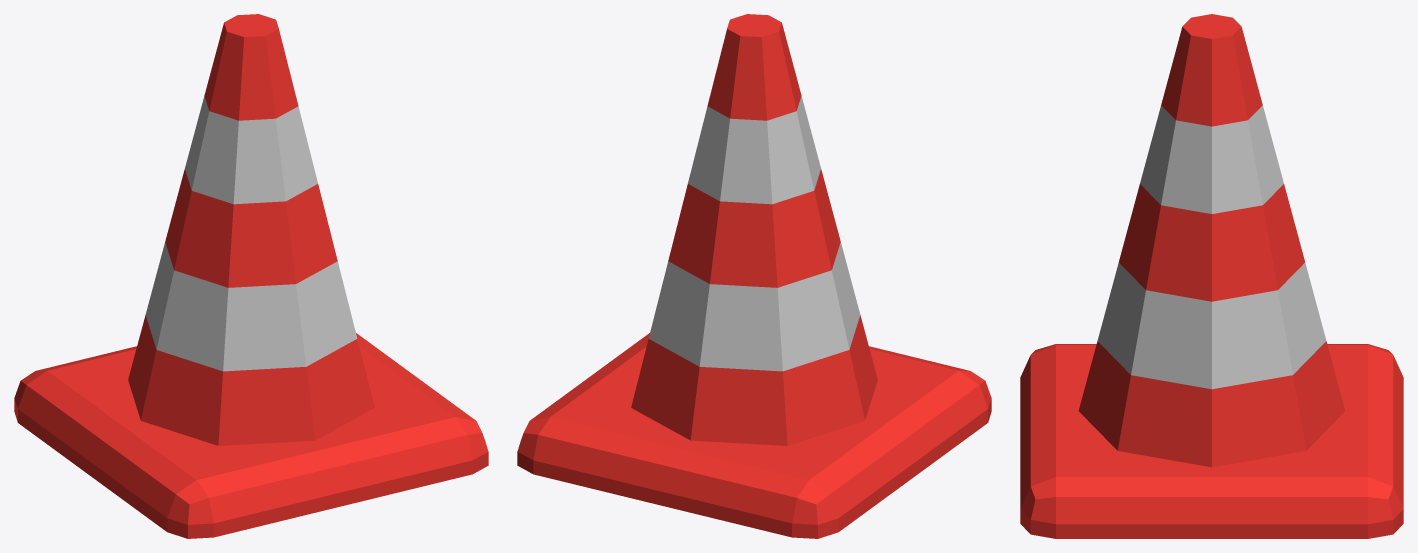
The model's file is RoadSign_05.fbx.
The picture shows the model from 3 angles, left to right: view 1: azimuth 30°, elevation 25°; view 2: azimuth 150°, elevation 25°; view 3: azimuth 270°, elevation 25°; orthographic projection. The views are drawn at different scales.
Visible parts, largest first — view 1: RoadSign_05; view 2: RoadSign_05; view 3: RoadSign_05.
Boxes of the visible parts, bbox=[...] form: RoadSign_05: bbox=[14, 14, 488, 538]; RoadSign_05: bbox=[517, 14, 991, 538]; RoadSign_05: bbox=[1020, 14, 1403, 538].
Size of the model in its own units: 38.34 by 47.63 by 38.34.
